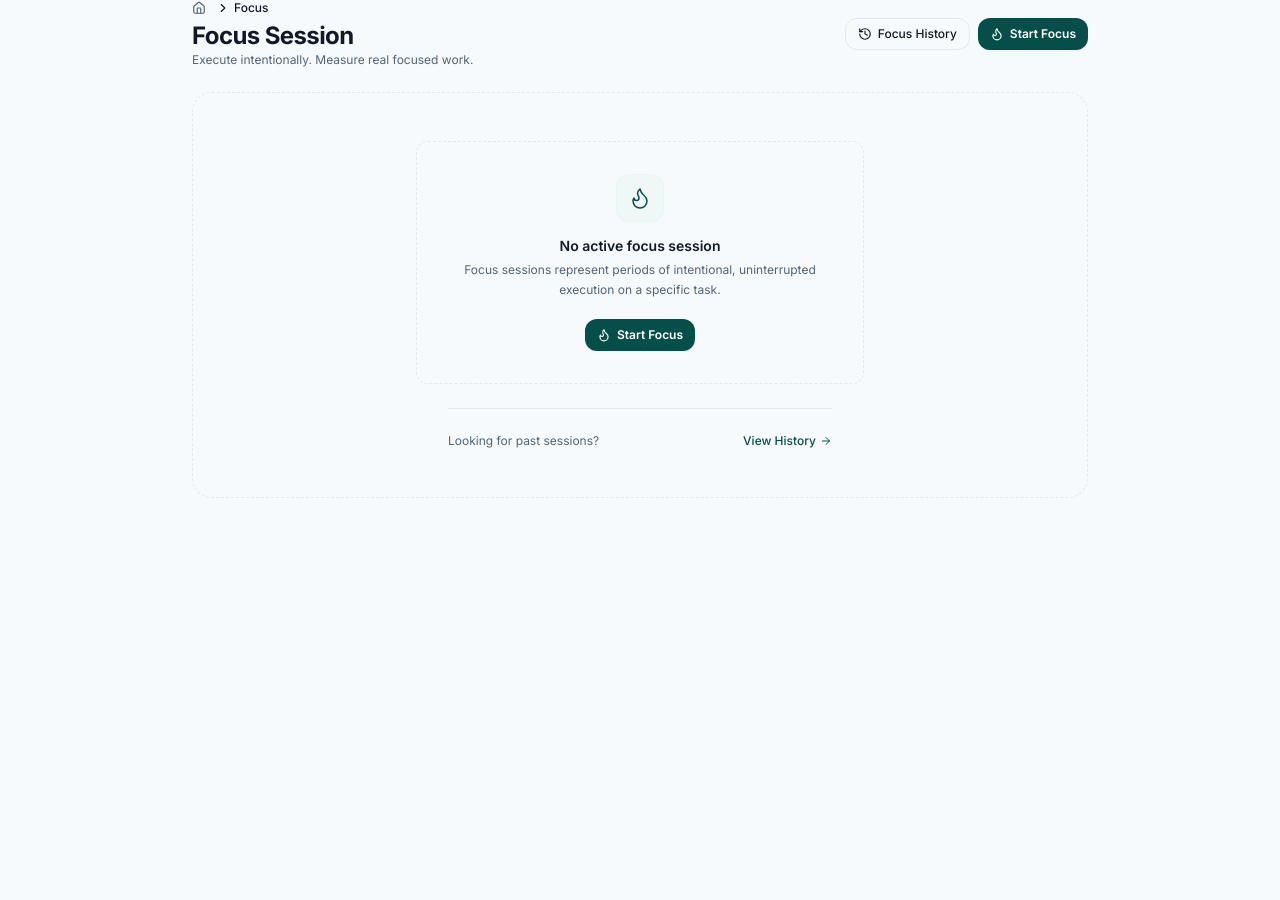
Test: FocusPage Component › opens StartFocusModal when clicking Start Focus from empty state
What coordinates should you click on to do the following:
click the 1st button "Start Focus"
I would click on:
 (1033, 34)
Its box is [978,18,1088,50].
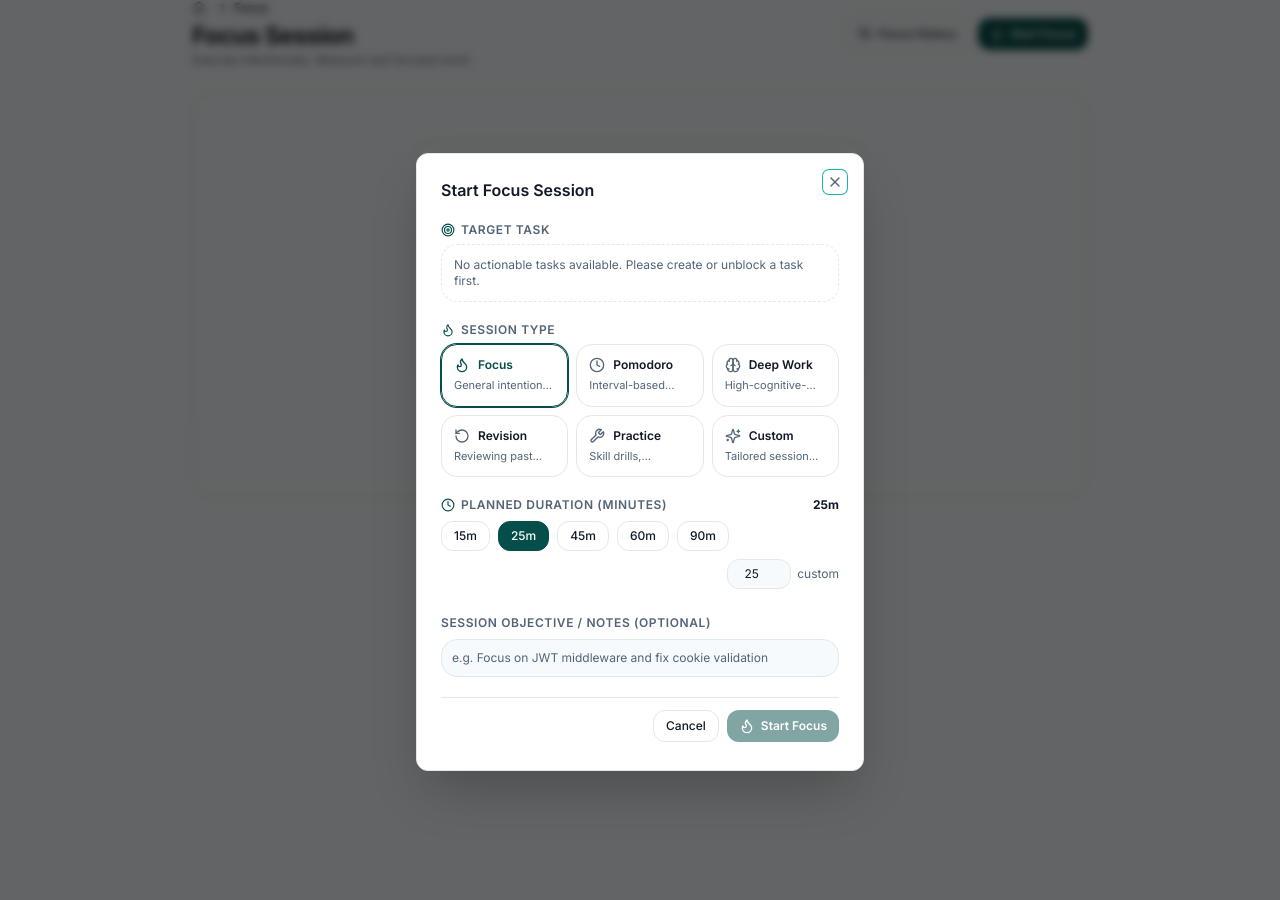
Check: the dialog is shown
Check: the heading "Start Focus Session" is shown, box [441,180,594,200]
